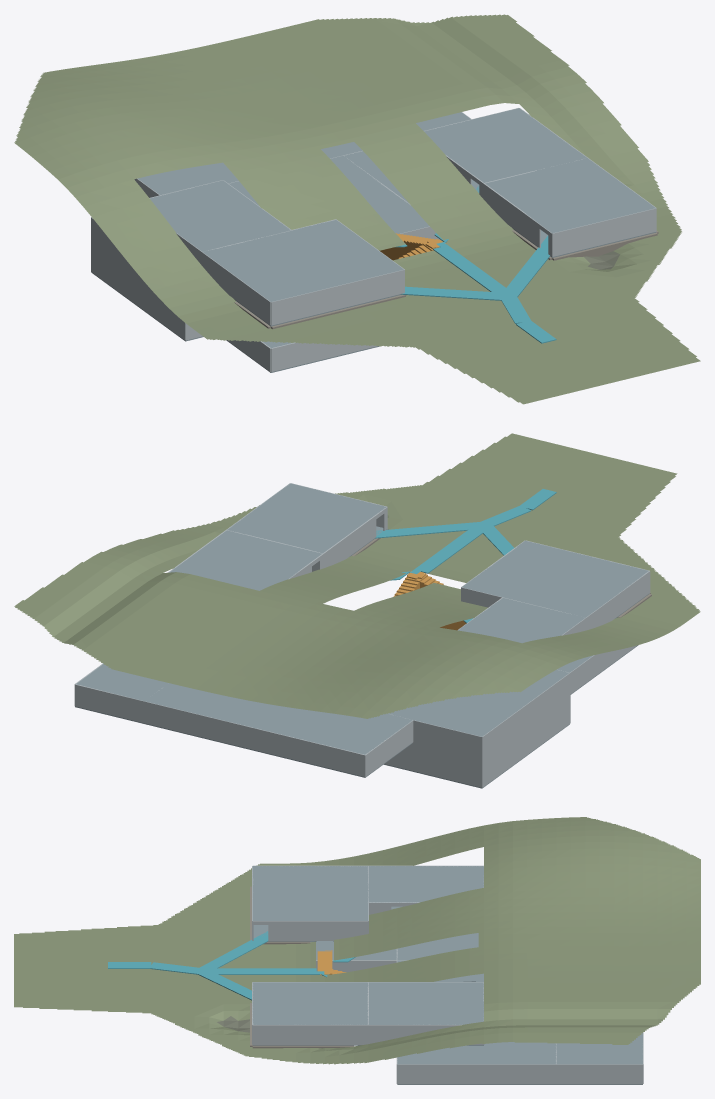
The model's file is bayed-stairs.glb.
3 renders of one model, top to bottom at view 1: azimuth 30°, elevation 25°; view 2: azimuth 150°, elevation 25°; view 3: azimuth 270°, elevation 25°, orthographic. The views are drawn at different scales.
Parts seen in each view (by area): view 1: Saved editor macroterrain WLD-05, Ceiling cap shack, Ceiling cap assay, Ceiling cap wash, Ceiling cap stores, Wall shack S, Wall lower W, Wall assay S, Ceiling cap cross, Wall vent S, Wall shack W, Ceiling cap haul.004 (+8 smaller); view 2: Saved editor macroterrain WLD-05, Ceiling cap shack, Ceiling cap cross, Ceiling cap assay, Ceiling cap wash, Wall cross N, Ceiling cap ore-west, Ceiling cap stores, Wall lower W, Wall lower N, Wall ore-west W, Ceiling cap lift (+8 smaller); view 3: Saved editor macroterrain WLD-05, Ceiling cap shack, Ceiling cap assay, Ceiling cap wash, Ceiling cap stores, Wall ore-east E, Ceiling cap ore-east, Wall assay E, Ceiling cap lift, Wall shack E, Wall lift E, Ceiling cap ore-west (+5 smaller).
Boxes of the visible parts, x1,y1,x2,y2 form: Saved editor macroterrain WLD-05: [14, 14, 700, 404]; Ceiling cap shack: [203, 220, 403, 301]; Ceiling cap assay: [485, 158, 655, 233]; Ceiling cap wash: [424, 108, 586, 182]; Ceiling cap stores: [150, 180, 290, 251]; Wall shack S: [271, 269, 404, 325]; Wall lower W: [91, 241, 185, 340]; Wall assay S: [552, 208, 656, 256]; Ceiling cap cross: [137, 142, 362, 195]; Wall vent S: [271, 342, 376, 371]; Wall shack W: [202, 252, 270, 325]; Ceiling cap haul.004: [363, 190, 429, 233]; Saved editor macroterrain WLD-05: [14, 433, 700, 718]; Ceiling cap shack: [462, 540, 648, 617]; Ceiling cap cross: [144, 683, 412, 754]; Ceiling cap assay: [227, 483, 386, 553]; Ceiling cap wash: [169, 530, 321, 590]; Wall cross N: [144, 701, 365, 776]; Ceiling cap ore-west: [388, 669, 569, 736]; Ceiling cap stores: [458, 598, 585, 643]; Wall lower W: [482, 694, 570, 787]; Wall lower N: [385, 742, 482, 787]; Wall ore-west W: [482, 673, 570, 758]; Ceiling cap lift: [76, 663, 168, 700]; Saved editor macroterrain WLD-05: [14, 817, 700, 1064]; Ceiling cap shack: [252, 866, 368, 920]; Ceiling cap assay: [252, 982, 368, 1024]; Ceiling cap wash: [368, 982, 483, 1024]; Ceiling cap stores: [368, 866, 483, 902]; Wall ore-east E: [397, 1064, 556, 1084]; Ceiling cap ore-east: [397, 1042, 556, 1064]; Wall assay E: [252, 1024, 368, 1044]; Ceiling cap lift: [556, 1033, 642, 1064]; Wall shack E: [268, 921, 368, 940]; Wall lift E: [556, 1064, 642, 1084]; Ceiling cap ore-west: [397, 933, 478, 959].
Bounding box in the file's own units: 70 × 17.77 × 95.
